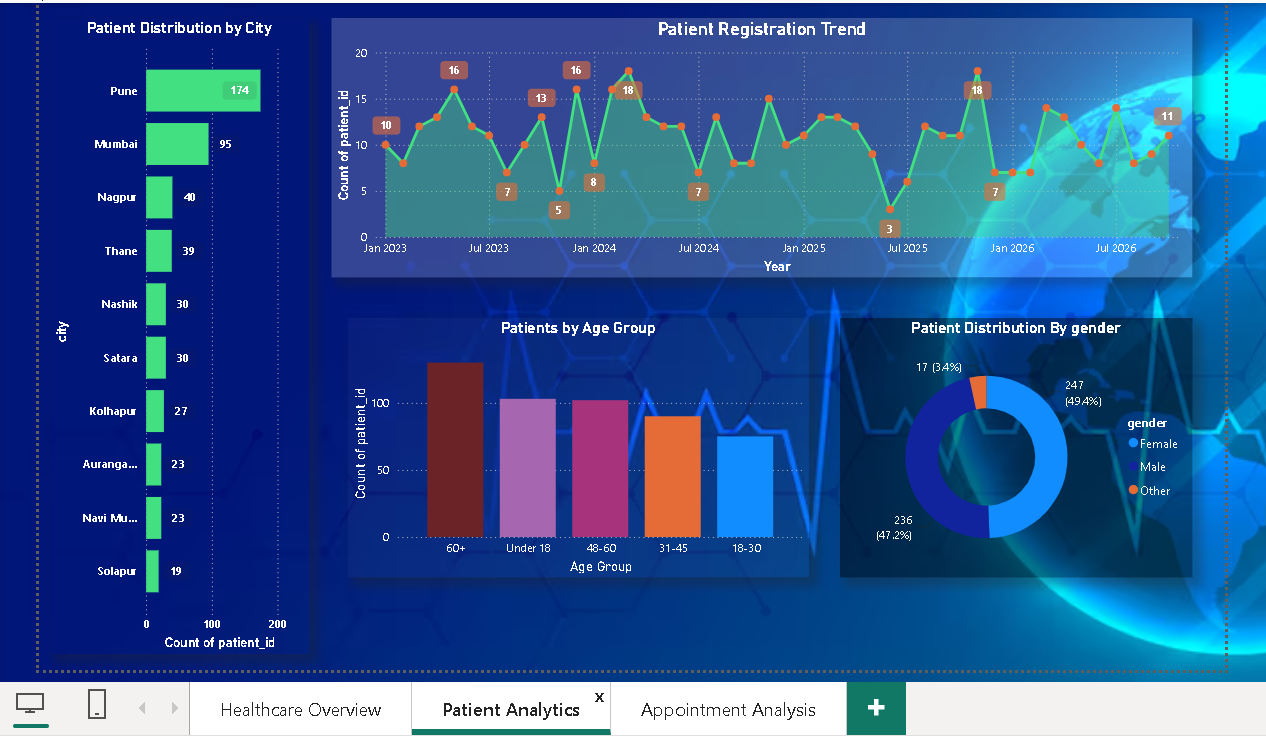

The dashboard page shown, as its layout file describes it:
{"tool":"powerbi","page":{"name":"Patient Analytics","canvas":[1280,720],"ordinal":1},"visuals":[{"type":"donutChart","title":"Patient Distribution By gender","fields":{"Category":["patients.gender"],"Y":["CountNonNull(patients.patient_id)"]},"box":[864.7,340,380.5,280.1],"z":0},{"type":"clusteredColumnChart","title":"Patients by Age Group","fields":{"Category":["patients.Age Group"],"Y":["CountNonNull(patients.patient_id)"]},"box":[333.6,340,497.1,280.1],"z":1000},{"type":"lineChart","title":"Patient Registration Trend","fields":{"Category":["patients.registration_date.Variation.Date Hierarchy.Year","patients.registration_date.Variation.Date Hierarchy.Month"],"Y":["CountNonNull(patients.patient_id)"]},"box":[315.7,16.2,929.4,280.1],"z":2000},{"type":"clusteredBarChart","title":"Patient Distribution by City","fields":{"Category":["patients.city"],"Y":["CountNonNull(patients.patient_id)"]},"box":[11.3,16.2,280.1,686.6],"z":3000}]}

Visuals, with their boxes on the page's 1280x720 design canvas (x1, y1, x2, y2). These are canvas units, not pixel positions in the 1266x736 screenshot, which may show the page scaled, cropped or inside an application window:
"Patient Distribution By gender" donutChart: [x1=865, y1=340, x2=1245, y2=620]
"Patients by Age Group" clusteredColumnChart: [x1=334, y1=340, x2=831, y2=620]
"Patient Registration Trend" lineChart: [x1=316, y1=16, x2=1245, y2=296]
"Patient Distribution by City" clusteredBarChart: [x1=11, y1=16, x2=291, y2=703]
